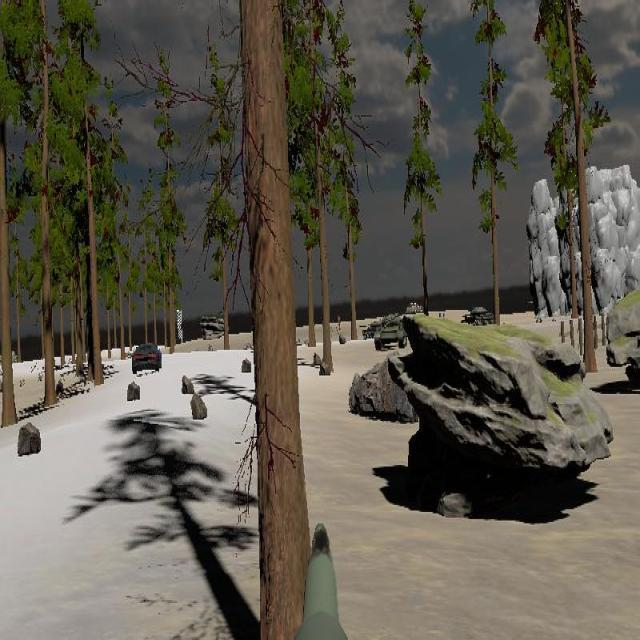Tank: (375, 313, 407, 352), (461, 305, 496, 329)
car: (132, 342, 162, 375)
